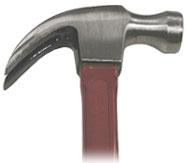hammer: (1, 2, 184, 162)
